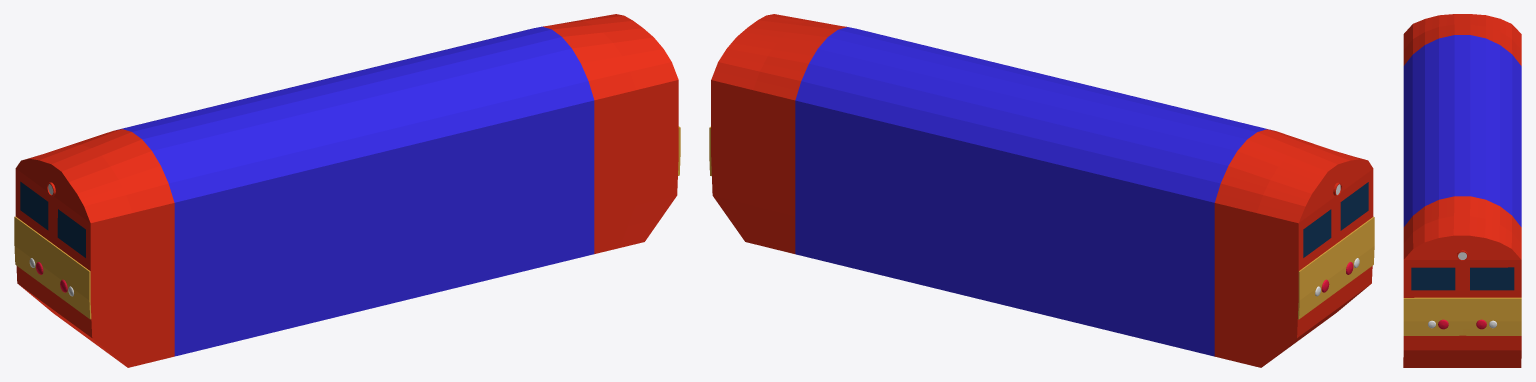
File: mot.glb
3 renders of one model, left to right at view 1: azimuth 30°, elevation 25°; view 2: azimuth 150°, elevation 25°; view 3: azimuth 270°, elevation 25°, orthographic. The views are drawn at different scales.
Parts seen in each view (by area): view 1: Engine; view 2: Engine; view 3: Engine.
Part boxes in pixels (x1,y1,x2,y2): Engine: (14,14,680,367); Engine: (709,14,1374,367); Engine: (1403,14,1521,367).
Bounding box in the file's own units: 14.19 × 4.41 × 3.1.
